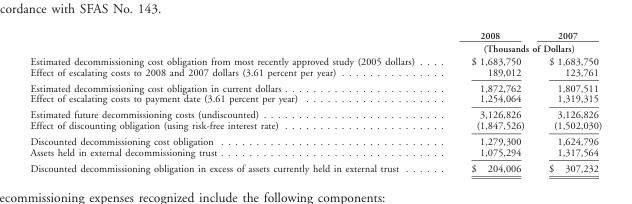table: (29, 29, 601, 173)
table column: (29, 29, 442, 173), (442, 29, 535, 173), (535, 29, 601, 173)
table column header: (29, 29, 601, 54)
table row: (29, 79, 601, 93), (29, 132, 601, 146), (29, 159, 601, 173), (29, 41, 601, 54), (29, 66, 601, 79), (29, 93, 601, 106), (29, 106, 601, 119), (29, 119, 601, 132), (29, 146, 601, 159), (29, 29, 601, 41), (29, 54, 601, 66)
table spanning cell: (442, 41, 601, 54)
